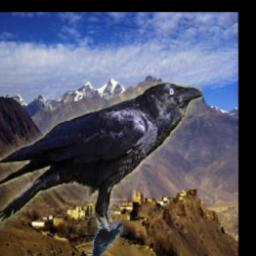Crow: (0, 82, 202, 235), (88, 221, 123, 256)
